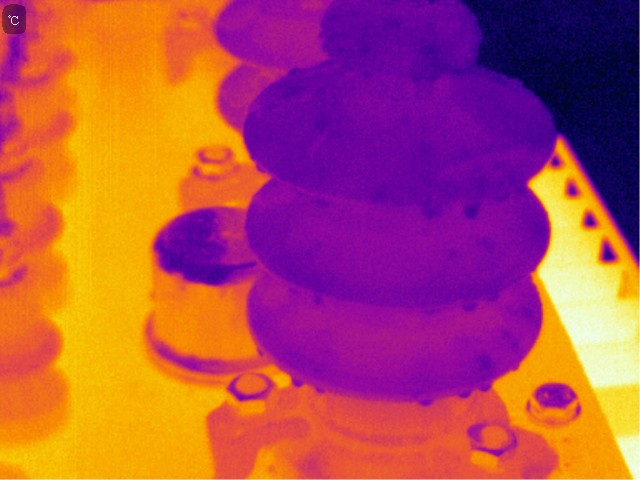Water: (406, 42, 446, 85), (308, 111, 335, 137), (460, 200, 484, 221), (246, 157, 271, 174), (460, 296, 481, 315), (500, 357, 523, 373), (475, 378, 496, 394), (381, 17, 403, 32), (476, 352, 495, 368), (491, 76, 511, 90), (375, 184, 389, 203), (456, 385, 473, 400), (290, 371, 305, 388), (358, 46, 376, 60), (311, 289, 322, 307), (419, 394, 434, 407), (522, 305, 537, 318), (256, 344, 269, 358), (513, 183, 526, 195), (288, 68, 303, 76)
